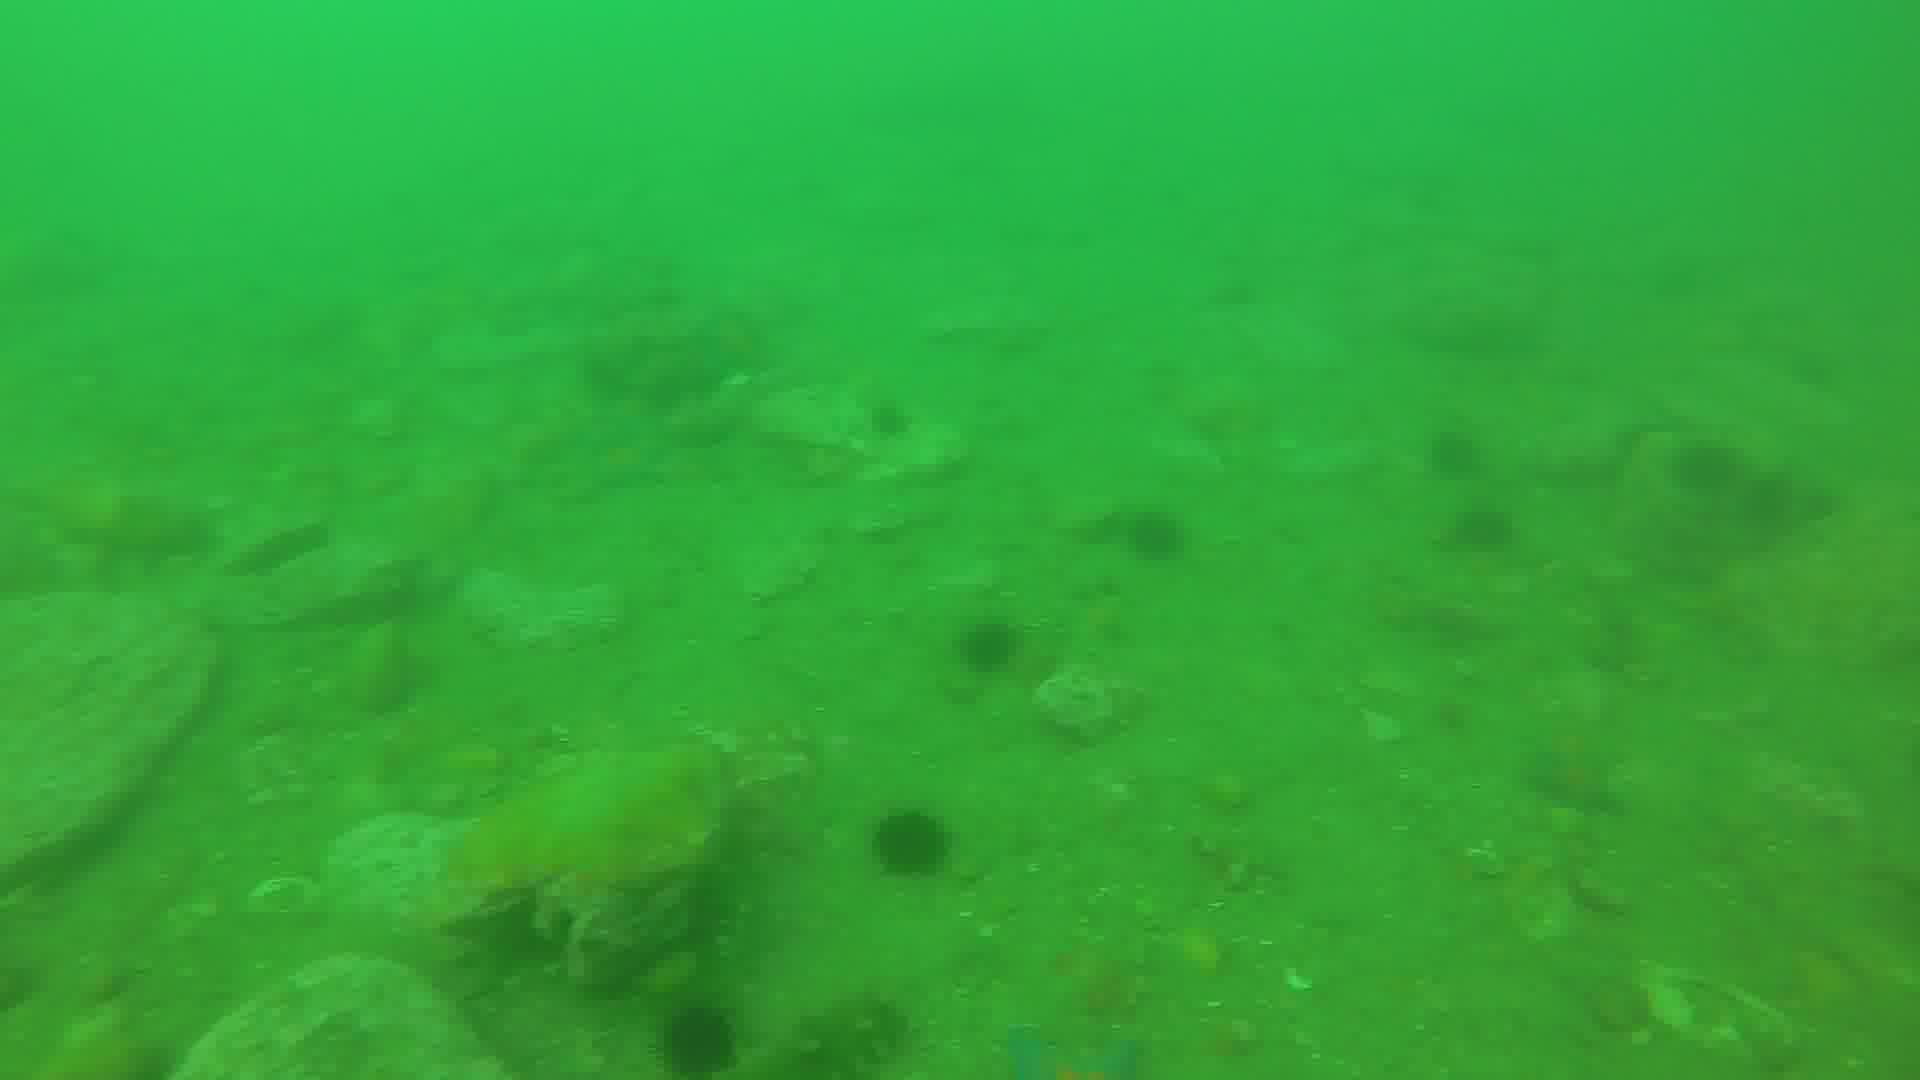echinus: (876, 814, 956, 874), (666, 1006, 733, 1071), (964, 618, 1033, 680), (1677, 444, 1754, 497), (1453, 500, 1516, 555), (1742, 471, 1796, 524), (1134, 509, 1183, 563), (1427, 431, 1477, 475)
holothurian: (720, 982, 914, 1080)
starfish: (1018, 1017, 1149, 1080), (1524, 740, 1626, 818)
